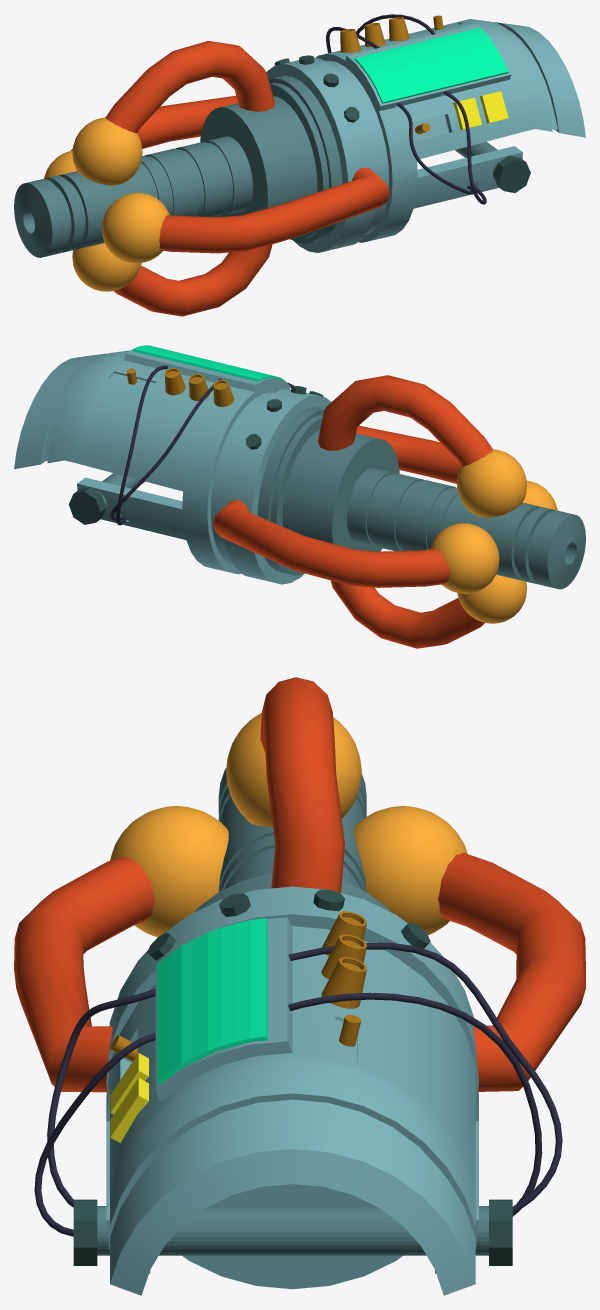
The model's file is Arma03.fbx.
3 views of the same model, one above another, from view 1: azimuth 30°, elevation 25°; view 2: azimuth 150°, elevation 25°; view 3: azimuth 270°, elevation 25° (orthographic). The views are drawn at different scales.
Parts seen in each view (by area): view 1: Cilindro.005, Cilindro, Plano.002, Plano.001, Plano.004, Plano.003, Esfera.001, Esfera.002, Plano, Esfera.003, Cilindro.003, Botón 01 (+6 smaller); view 2: Cilindro.005, Cilindro, Plano, Plano.001, Plano.003, Esfera.001, Esfera, Plano.002, Esfera.003, Plano.004, Cilindro.002, Cable 01 (+5 smaller); view 3: Cilindro.005, Plano, Plano.002, Plano.001, Plano.004, Cilindro.001, Esfera, Esfera.002, Cilindro, Esfera.001, Cable 02, Cable 01 (+9 smaller).
Boxes of the visible parts, left/top/right/bottom form: Cilindro.005: left=266, top=19, right=585, bottom=252; Cilindro: left=14, top=75, right=342, bottom=257; Plano.002: left=159, top=167, right=389, bottom=253; Plano.001: left=105, top=41, right=275, bottom=133; Plano.004: left=354, top=27, right=508, bottom=103; Plano.003: left=114, top=244, right=272, bottom=316; Esfera.001: left=72, top=117, right=142, bottom=185; Esfera.002: left=102, top=192, right=169, bottom=263; Plano: left=70, top=95, right=237, bottom=150; Esfera.003: left=72, top=243, right=141, bottom=291; Cilindro.003: left=493, top=155, right=530, bottom=192; Botón 01: left=480, top=91, right=508, bottom=123; Cilindro.005: left=14, top=349, right=331, bottom=584; Cilindro: left=257, top=407, right=585, bottom=589; Plano: left=213, top=500, right=449, bottom=587; Plano.001: left=317, top=375, right=493, bottom=466; Plano.003: left=331, top=580, right=484, bottom=648; Esfera.001: left=456, top=449, right=526, bottom=517; Esfera: left=430, top=523, right=499, bottom=593; Plano.002: left=356, top=425, right=461, bottom=483; Esfera.003: left=457, top=574, right=526, bottom=623; Plano.004: left=133, top=345, right=286, bottom=382; Cilindro.002: left=69, top=487, right=106, bottom=524; Cable 01: left=116, top=365, right=168, bottom=525; Cilindro.005: left=106, top=886, right=478, bottom=1295; Plano: left=438, top=853, right=585, bottom=1091; Plano.002: left=14, top=857, right=154, bottom=1092; Plano.001: left=260, top=677, right=344, bottom=892; Plano.004: left=157, top=918, right=267, bottom=1085; Cilindro.001: left=97, top=1206, right=488, bottom=1255; Esfera: left=354, top=806, right=467, bottom=935; Esfera.002: left=110, top=806, right=228, bottom=937; Cilindro: left=195, top=768, right=390, bottom=911; Esfera.001: left=226, top=713, right=361, bottom=826; Cable 02: left=288, top=942, right=562, bottom=1214; Cable 01: left=288, top=992, right=542, bottom=1216.
Size of the model in its own units: 990 by 483 by 492.
